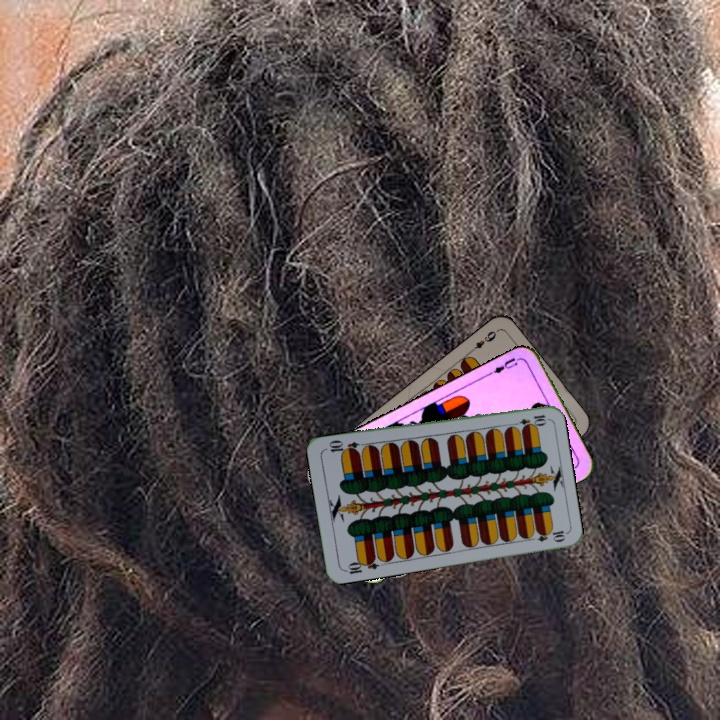E10: (340, 554, 381, 577), (508, 411, 549, 429)
E9: (466, 326, 500, 356)
EU: (485, 353, 524, 377)
